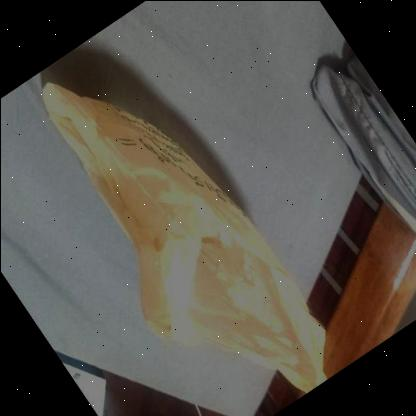Others: (2, 81, 328, 394)
